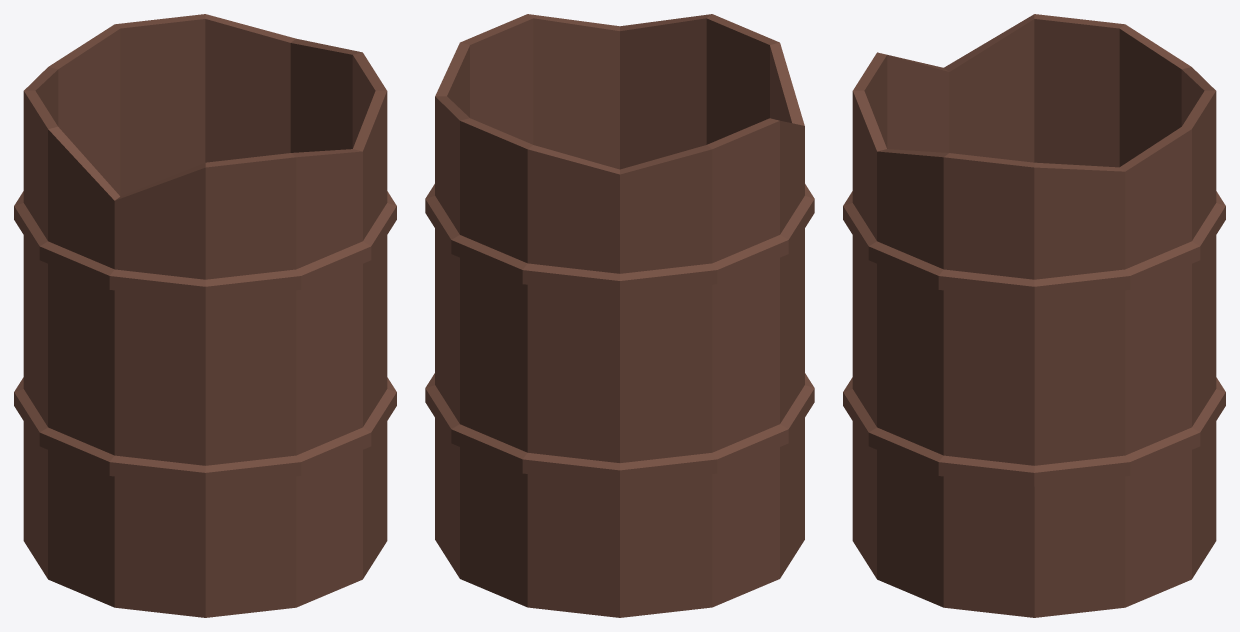
The model's file is Wh_Barrel_Damaged.fbx.
3 renders of one model, left to right at view 1: azimuth 30°, elevation 25°; view 2: azimuth 150°, elevation 25°; view 3: azimuth 270°, elevation 25°, orthographic.
Visible parts, largest first — view 1: Cylinder.056; view 2: Cylinder.056; view 3: Cylinder.056.
Boxes of the visible parts, x1=… form: Cylinder.056: x1=14, y1=14, x2=396, y2=617; Cylinder.056: x1=425, y1=14, x2=814, y2=617; Cylinder.056: x1=843, y1=14, x2=1225, y2=617.
Bounding box in the file's own units: 76.93 × 99.87 × 76.93.
